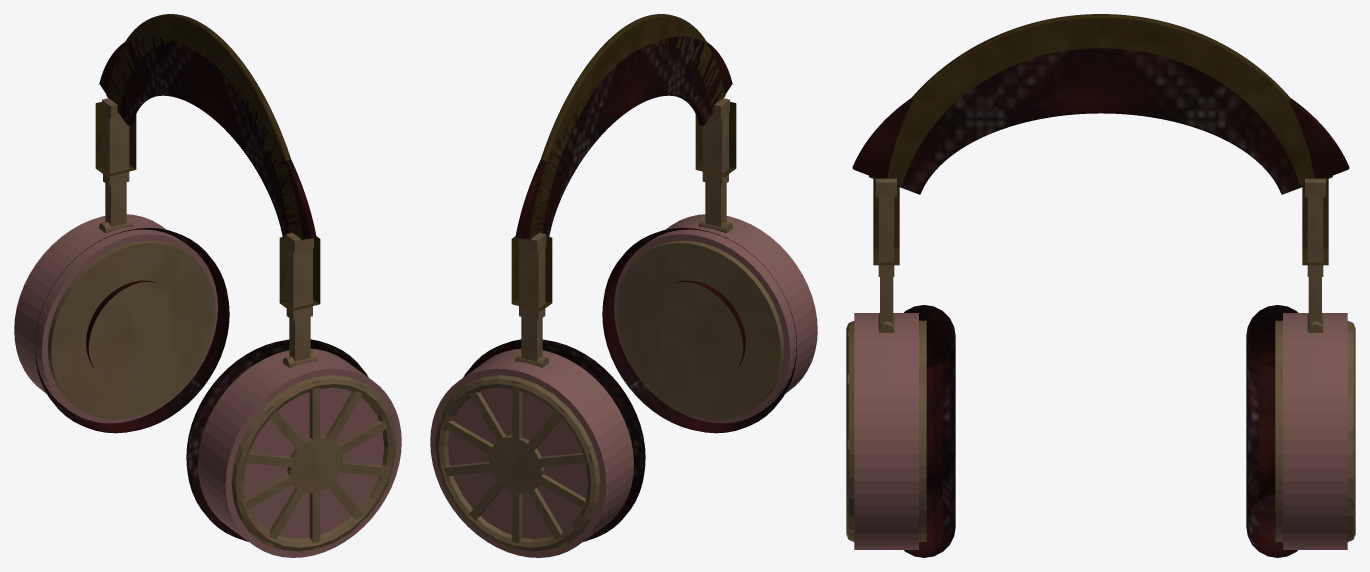
The model's file is Music_Headphone__0229.glb.
3 views of the same model, side by side, from view 1: azimuth 30°, elevation 25°; view 2: azimuth 150°, elevation 25°; view 3: azimuth 270°, elevation 25° (orthographic). The views are drawn at different scales.
Visible parts, largest first — view 1: left_cup::left_cup_cap, right_cup::right_cup_shell, suspension_strap::strap_body, left_cup::left_cup_shell, band::arch_frame, right_cup::right_cup_grille_ring, left_cup::left_cup_pad, right_cup::right_cup_pad, right_cup::right_cup_grille_hub, right_slider::right_slider_bar, left_slider::left_slider_bar, band::housing_r (+13 smaller); view 2: right_cup::right_cup_cap, left_cup::left_cup_shell, suspension_strap::strap_body, right_cup::right_cup_shell, band::arch_frame, left_cup::left_cup_grille_ring, right_cup::right_cup_pad, left_cup::left_cup_pad, left_cup::left_cup_grille_hub, left_slider::left_slider_bar, right_slider::right_slider_bar, band::housing_l (+13 smaller); view 3: suspension_strap::strap_body, band::arch_frame, left_cup::left_cup_shell, right_cup::right_cup_shell, left_cup::left_cup_pad, right_cup::right_cup_pad, left_cup::left_cup_grille_ring, right_cup::right_cup_grille_ring, left_cup::left_cup_cap, right_cup::right_cup_cap, right_slider::right_slider_bar, left_slider::left_slider_bar (+4 smaller).
Part boxes in pixels (x1,y1,x2,y2): left_cup::left_cup_cap: (47,240,215,419); right_cup::right_cup_shell: (198,348,401,557); suspension_strap::strap_body: (99,36,316,238); left_cup::left_cup_shell: (14,214,217,423); band::arch_frame: (106,14,309,240); right_cup::right_cup_grille_ring: (231,375,396,551); left_cup::left_cup_pad: (35,227,229,433); right_cup::right_cup_pad: (186,339,368,541); right_cup::right_cup_grille_hub: (287,435,342,493); right_slider::right_slider_bar: (286,247,312,320); left_slider::left_slider_bar: (103,112,129,186); band::housing_r: (279,236,320,311); right_cup::right_cup_cap: (616,240,784,419); left_cup::left_cup_shell: (430,348,633,557); suspension_strap::strap_body: (515,36,732,238); right_cup::right_cup_shell: (614,214,817,423); band::arch_frame: (522,14,725,240); left_cup::left_cup_grille_ring: (435,375,600,551); right_cup::right_cup_pad: (602,227,796,433); left_cup::left_cup_pad: (463,339,645,541); left_cup::left_cup_grille_hub: (489,435,544,493); left_slider::left_slider_bar: (519,247,545,320); right_slider::right_slider_bar: (702,113,728,186); band::housing_l: (511,236,552,311); suspension_strap::strap_body: (852,48,1349,194); band::arch_frame: (869,14,1332,186); left_cup::left_cup_shell: (1283,313,1347,549); right_cup::right_cup_shell: (854,313,918,549); left_cup::left_cup_pad: (1246,305,1297,557); right_cup::right_cup_pad: (904,305,955,557); left_cup::left_cup_grille_ring: (1347,321,1355,541); right_cup::right_cup_grille_ring: (846,321,854,541); left_cup::left_cup_cap: (1275,320,1282,541); right_cup::right_cup_cap: (919,320,926,541); right_slider::right_slider_bar: (878,195,894,276); left_slider::left_slider_bar: (1307,195,1323,276).
Size of the model in its own units: 0.0961 by 0.2225 by 0.1933.
4 materials, 4 textured.
